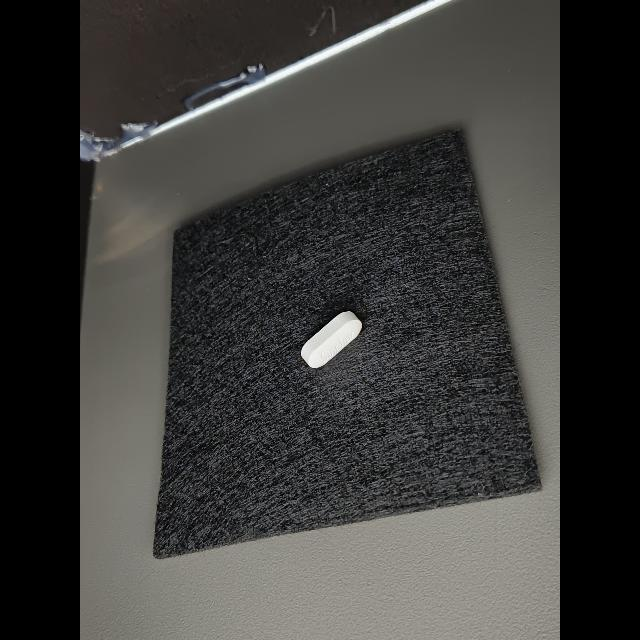Intact Pill: (301, 311, 362, 368)
